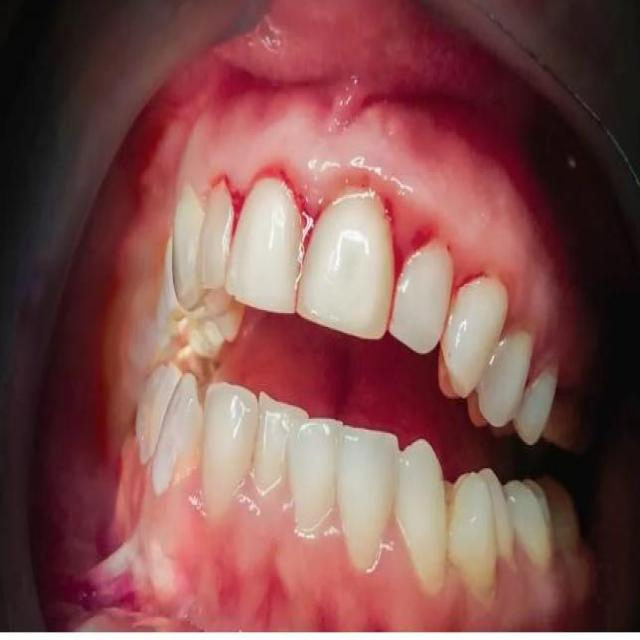Gingivitis: (382, 186, 435, 276), (287, 167, 326, 267), (222, 168, 252, 242), (454, 252, 484, 294)
